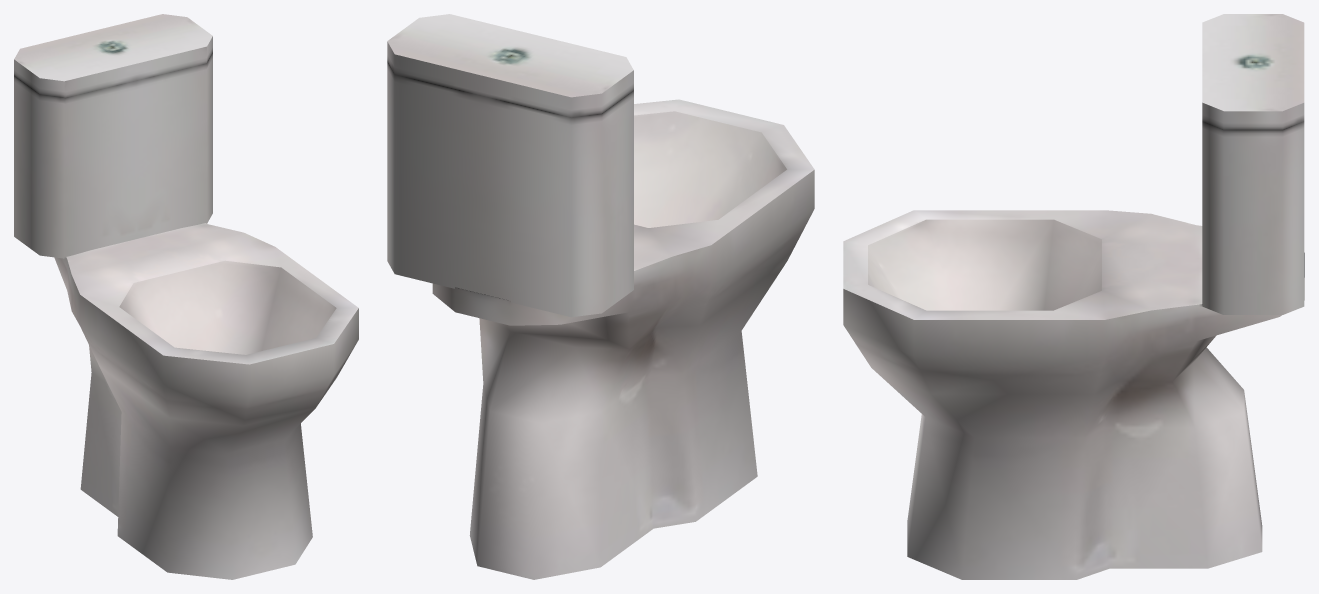
The model's file is Toilet.dae.
The picture shows the model from 3 angles, left to right: view 1: azimuth 30°, elevation 25°; view 2: azimuth 150°, elevation 25°; view 3: azimuth 270°, elevation 25°; orthographic projection. The views are drawn at different scales.
Parts seen in each view (by area): view 1: Toilet; view 2: Toilet; view 3: Toilet.
Part boxes in pixels (bbox=[...]): Toilet: bbox=[14, 14, 358, 579]; Toilet: bbox=[387, 14, 814, 579]; Toilet: bbox=[843, 14, 1304, 579].
Size of the model in its own units: 0.5235 by 0.9306 by 1.06.
1 material, 1 textured.
